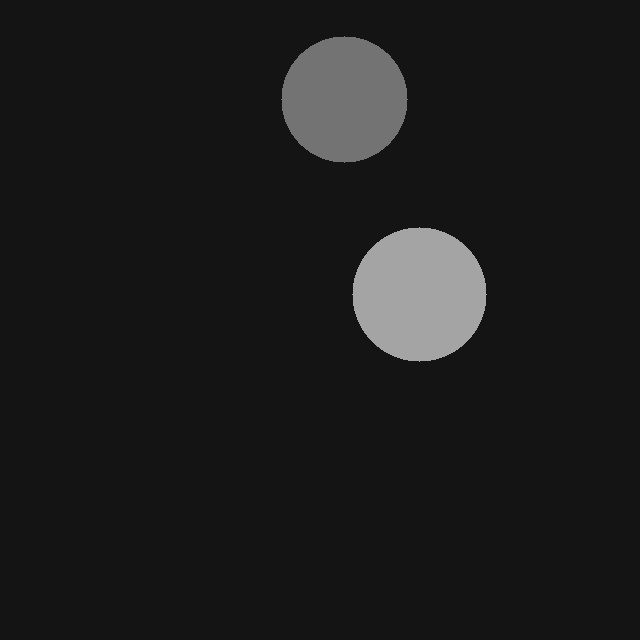circle: (352, 227, 486, 361), (281, 36, 407, 162)
